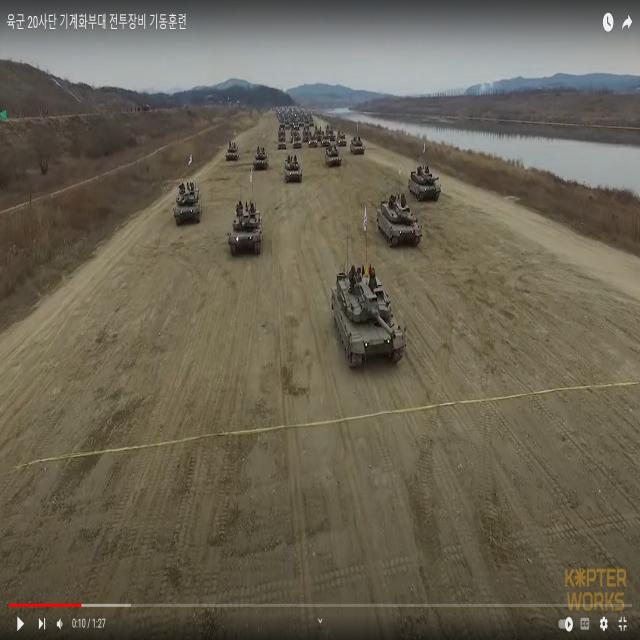tank: (331, 264, 408, 368), (375, 196, 421, 252), (228, 200, 264, 256), (174, 181, 202, 226), (408, 165, 442, 201)
